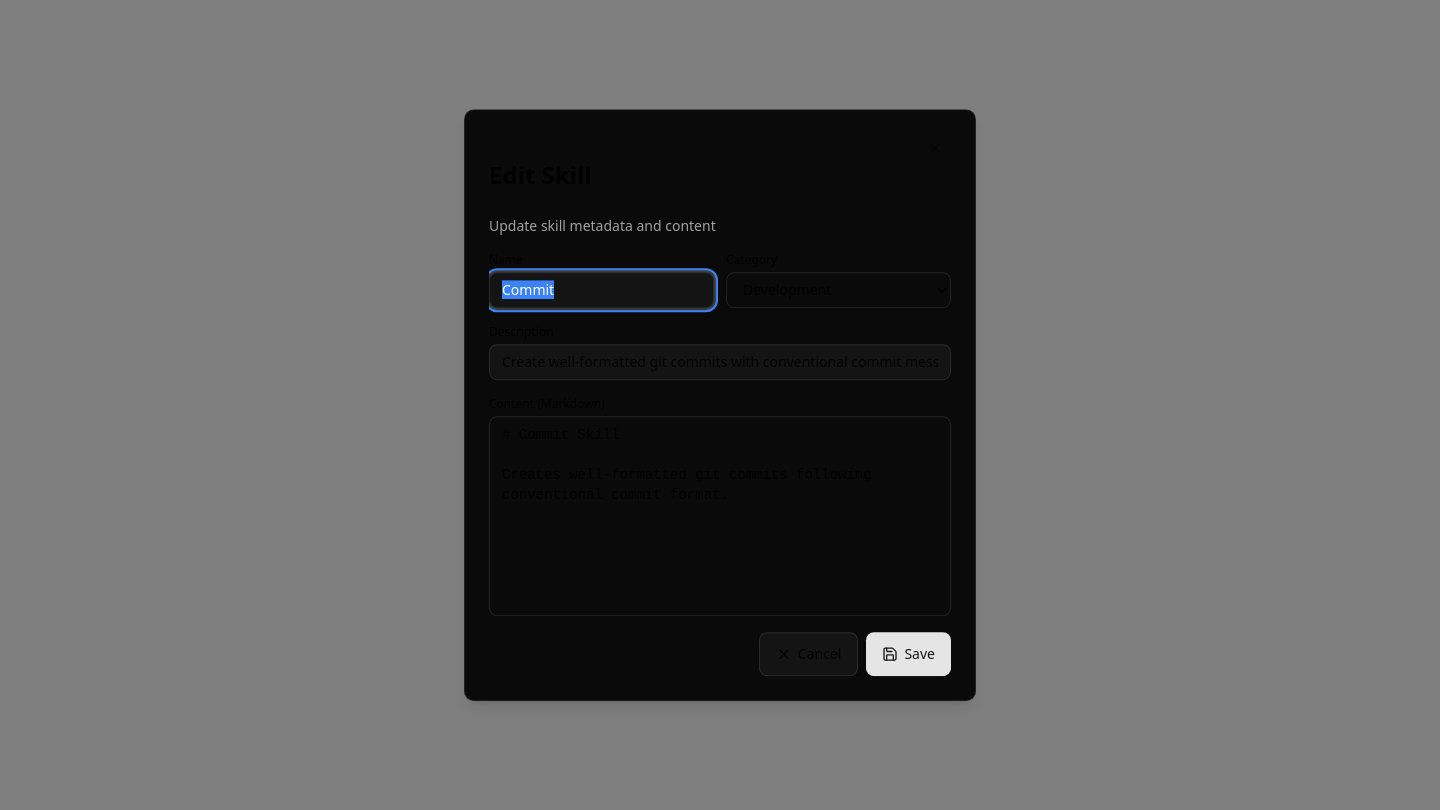
Test: SkillEditor › should show validation error for empty name
Clear the field labelled "Name" at (602, 290), box x1=489 y1=272 x2=714 y2=308
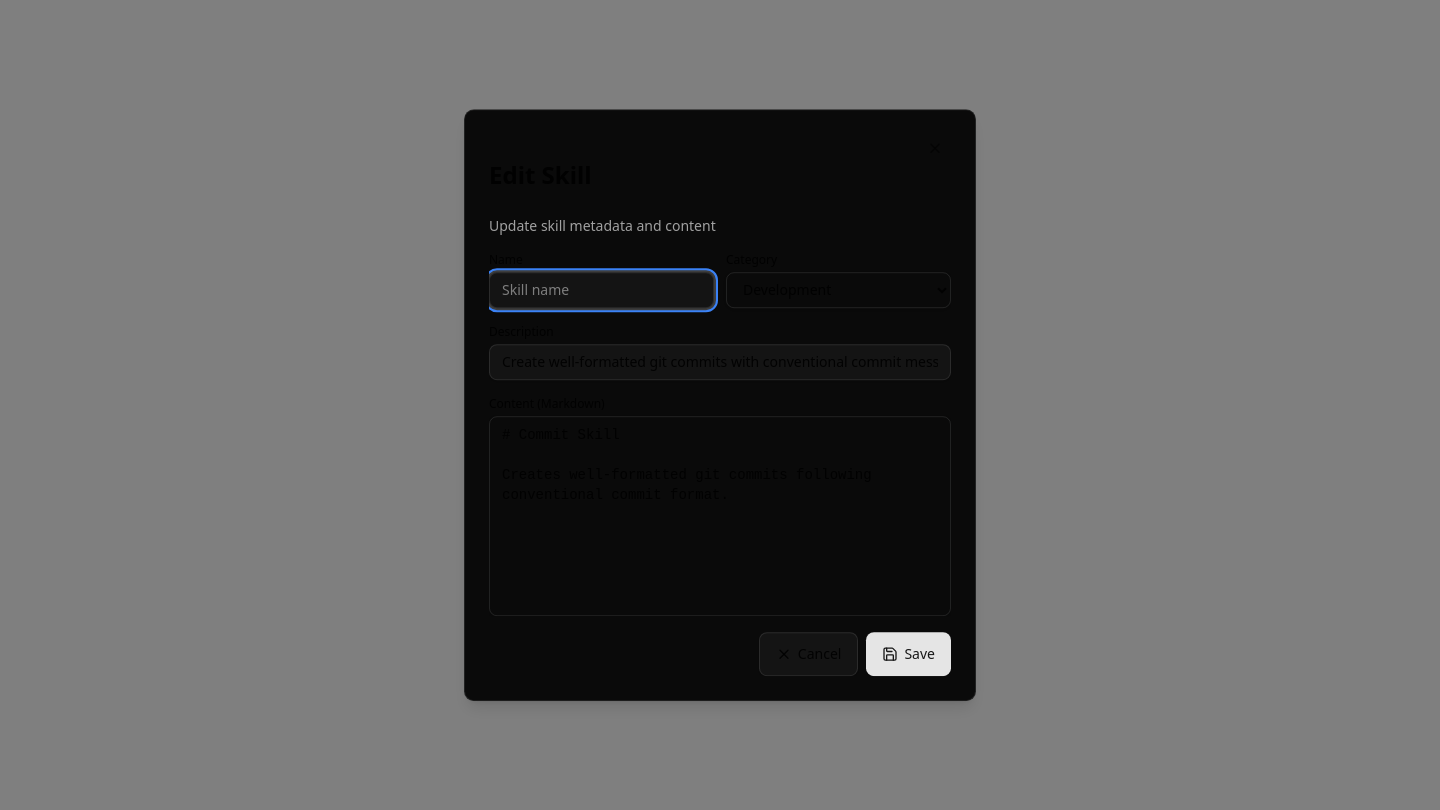
Click the button "Save" at (909, 654), box x1=866 y1=632 x2=951 y2=676
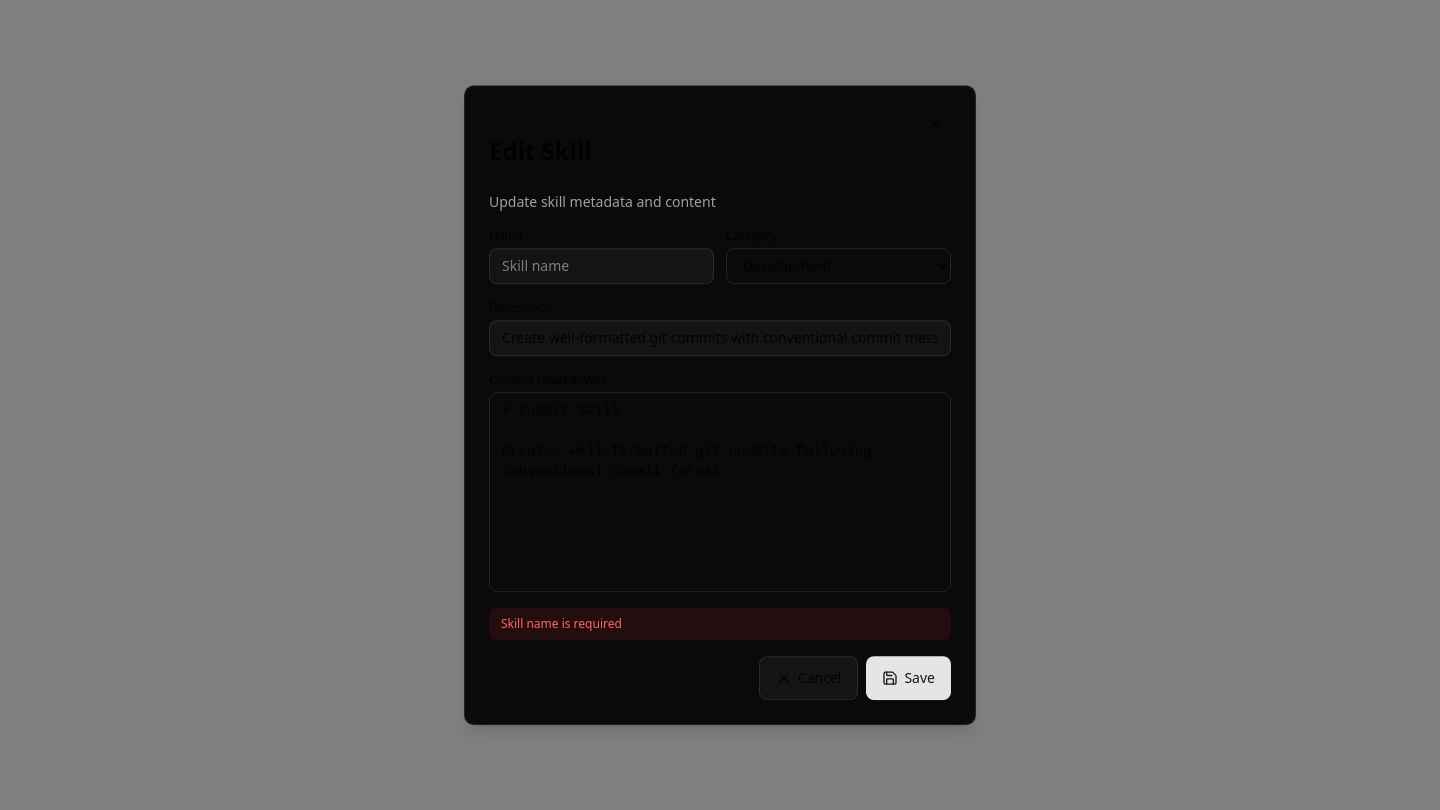
Now the text "Skill name is required" is shown, box x1=501 y1=615 x2=622 y2=632
